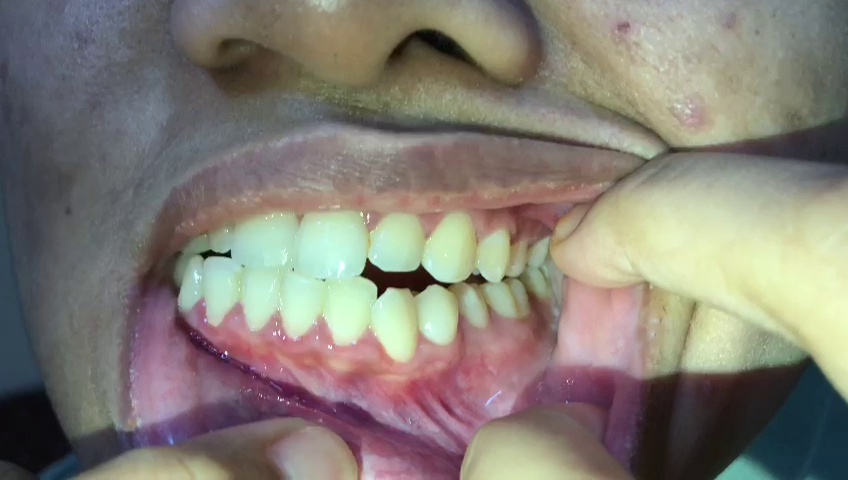1st Molar: (479, 282, 516, 320), (527, 236, 552, 270)
1st Premolar: (415, 285, 460, 342), (475, 231, 510, 279)
2nd Molar: (511, 279, 533, 319)
2nd Premolar: (456, 280, 487, 332), (510, 233, 530, 277)
3rd Molar: (524, 268, 553, 301)
Canine: (370, 282, 419, 361), (424, 211, 476, 284), (173, 253, 203, 317)
Central Incisor: (293, 206, 370, 277), (231, 202, 294, 265), (278, 271, 324, 338), (238, 262, 278, 331)
Lateral Incisor: (323, 275, 378, 348), (369, 215, 424, 270), (199, 257, 237, 327)
